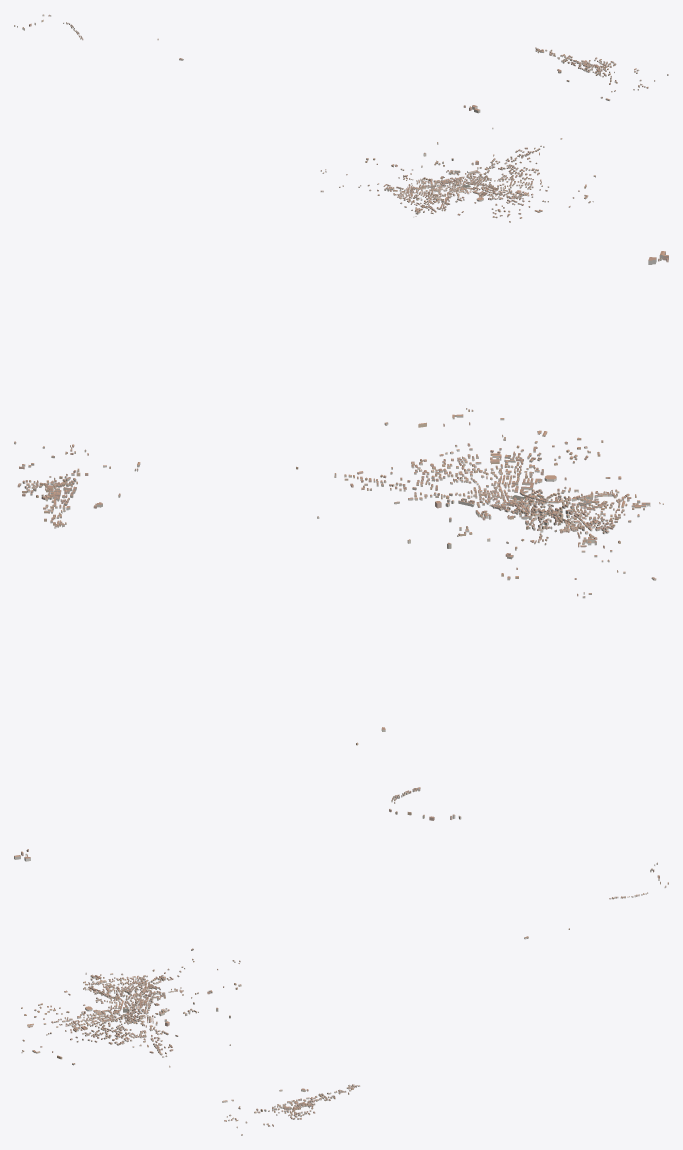
Rendered from borghi.glb.
3 views of the same model, one above another, from view 1: azimuth 30°, elevation 25°; view 2: azimuth 150°, elevation 25°; view 3: azimuth 270°, elevation 25° (orthographic). The views are drawn at different scales.
Parts seen in each view (by area): view 1: Borghi; view 2: Borghi; view 3: Borghi.
Boxes of the visible parts, box(x1,y1,x2,y2) form: Borghi: box(14, 14, 668, 222); Borghi: box(14, 251, 668, 820); Borghi: box(14, 849, 668, 1135).
Bounding box in the file's own units: 5530 × 1434 × 6196.
Materials: 14 (1 with a texture image).
